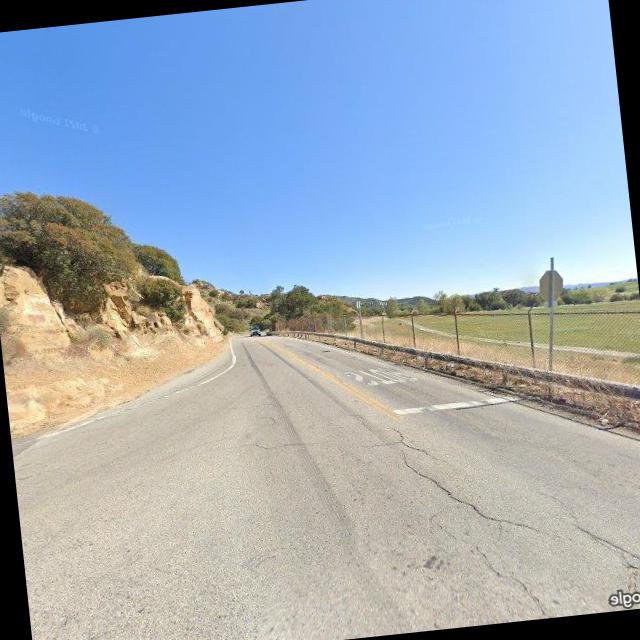crack: (366, 404, 551, 555), (538, 475, 640, 584), (243, 428, 324, 454)
